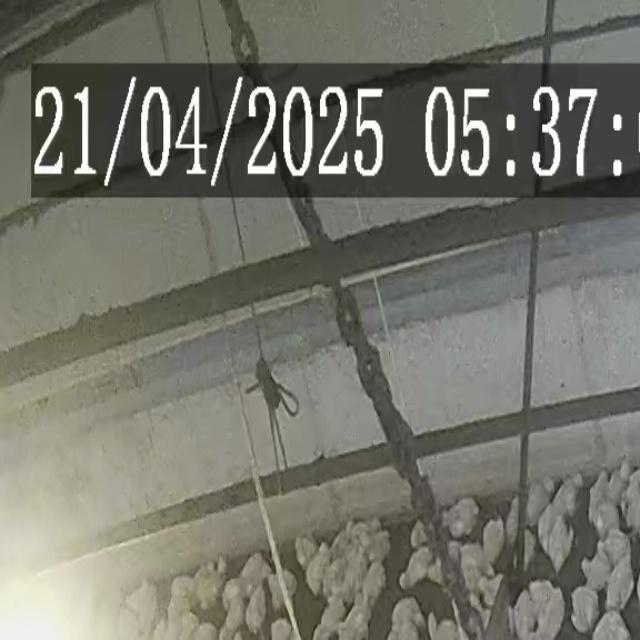chicken: (395, 543, 433, 591), (546, 516, 575, 572), (569, 587, 602, 631), (305, 541, 332, 593), (244, 585, 268, 636), (483, 516, 505, 566)
